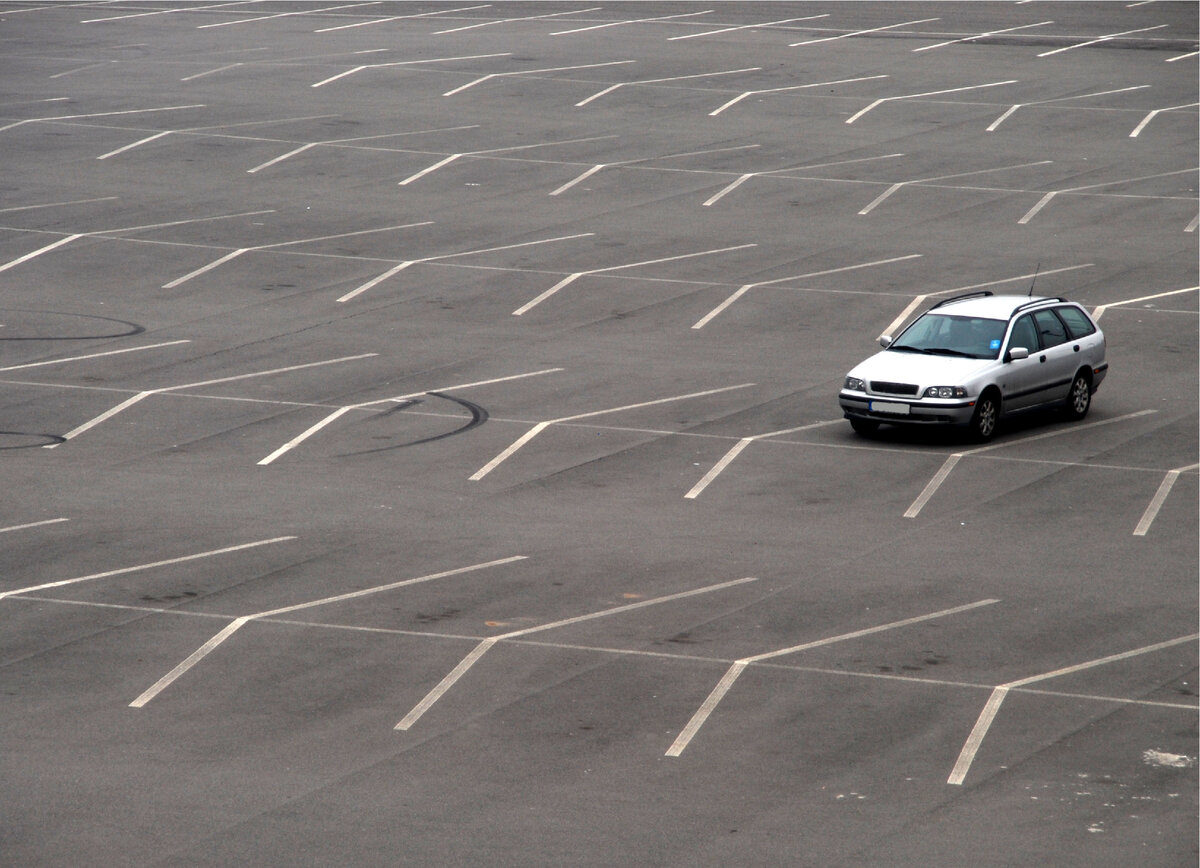Car: (839, 291, 1108, 441)
